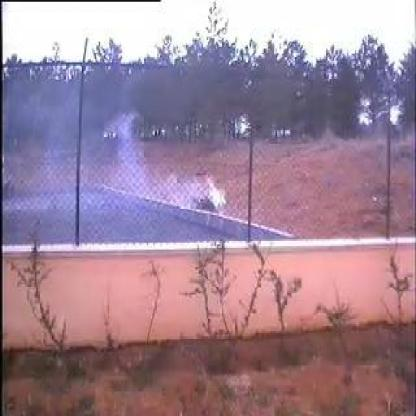-: (88, 94, 227, 244)
